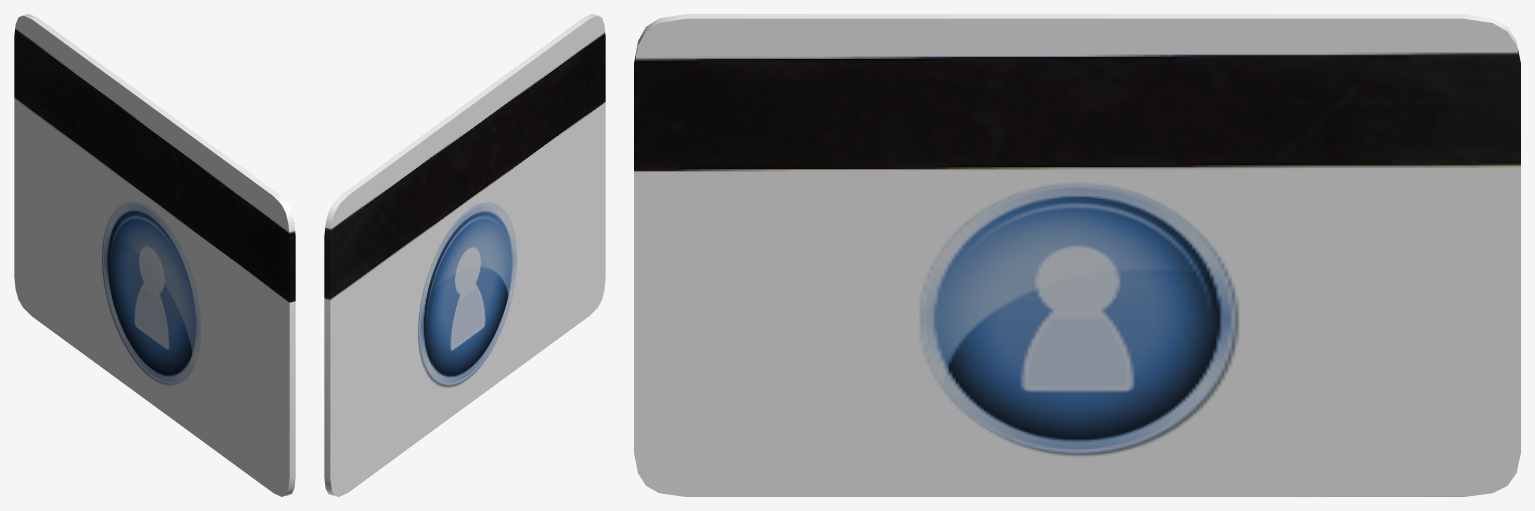
Rendered from kwycard.fbx.
The picture shows the model from 3 angles, left to right: view 1: azimuth 30°, elevation 25°; view 2: azimuth 150°, elevation 25°; view 3: azimuth 270°, elevation 25°; orthographic projection. The views are drawn at different scales.
Visible parts, largest first — view 1: Cube; view 2: Cube; view 3: Cube.
Boxes of the visible parts, <box> form: Cube: <box>14,14,295,496</box>; Cube: <box>324,14,605,496</box>; Cube: <box>634,14,1520,496</box>.
Size of the model in its own units: 4.26 by 199 by 334.
